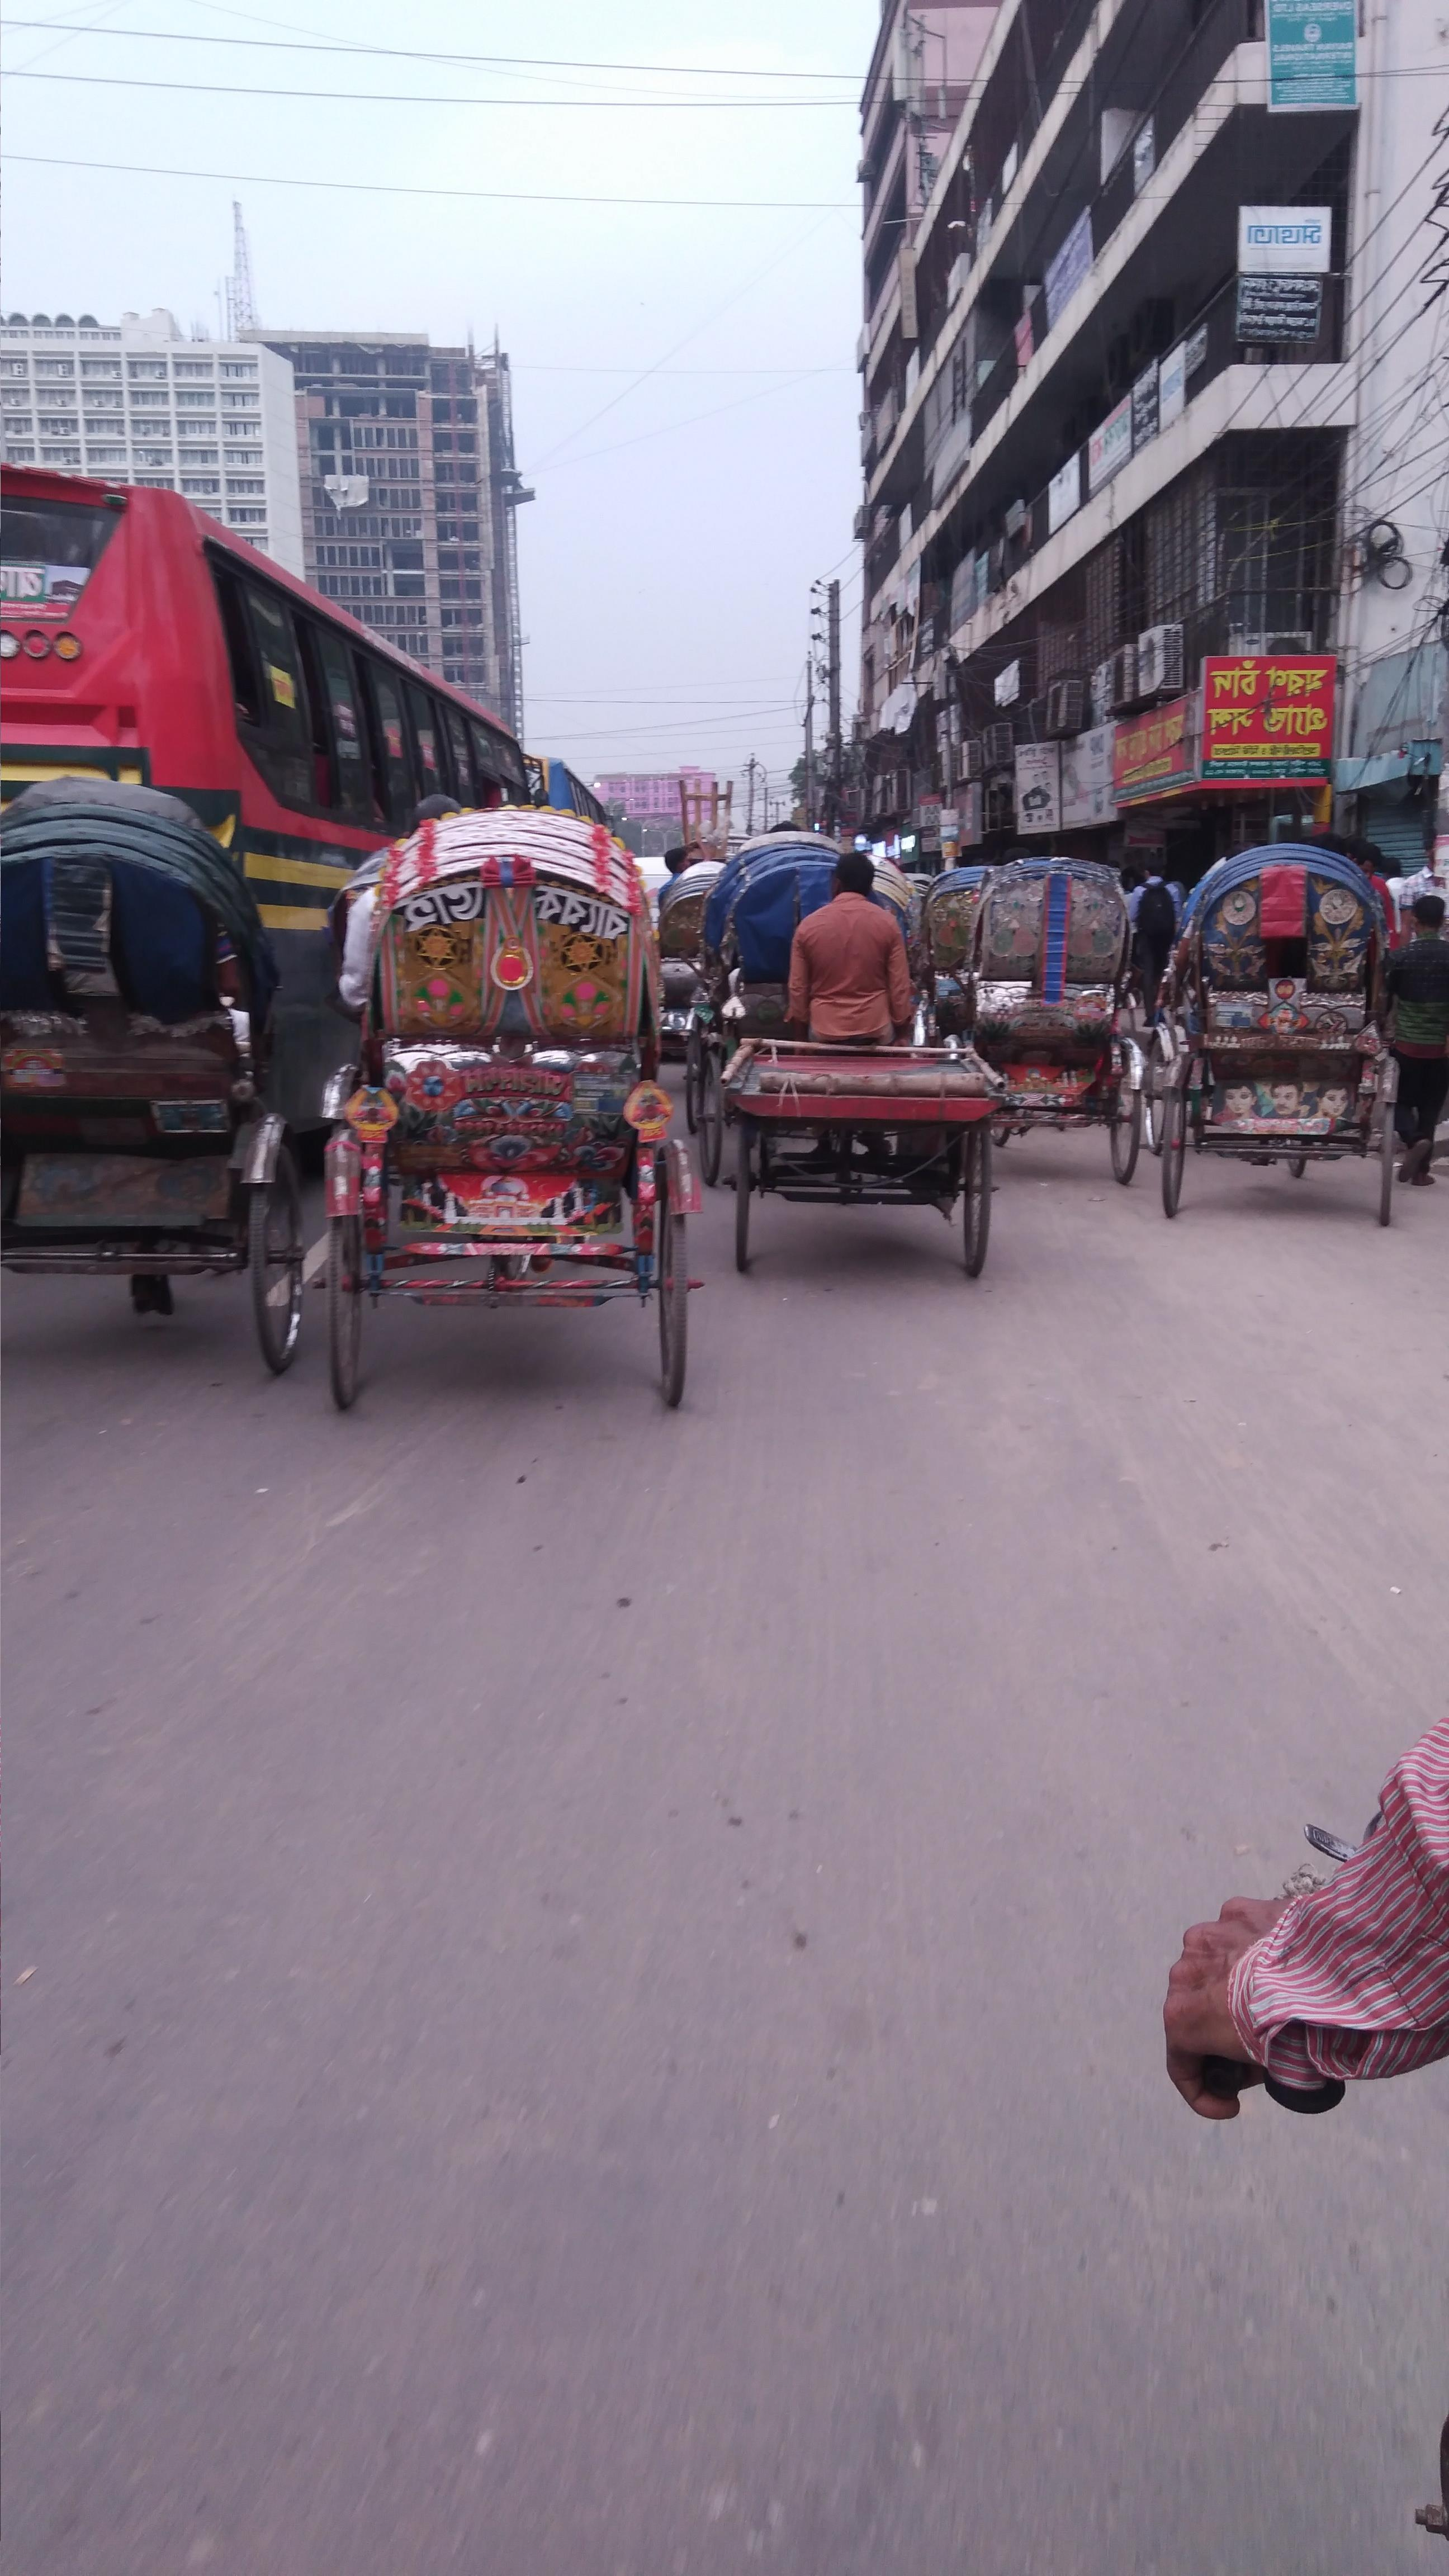Rickshaw: (359, 761, 701, 1422), (7, 745, 318, 1345), (1155, 828, 1424, 1260), (720, 784, 908, 1118), (970, 809, 1159, 1138)
